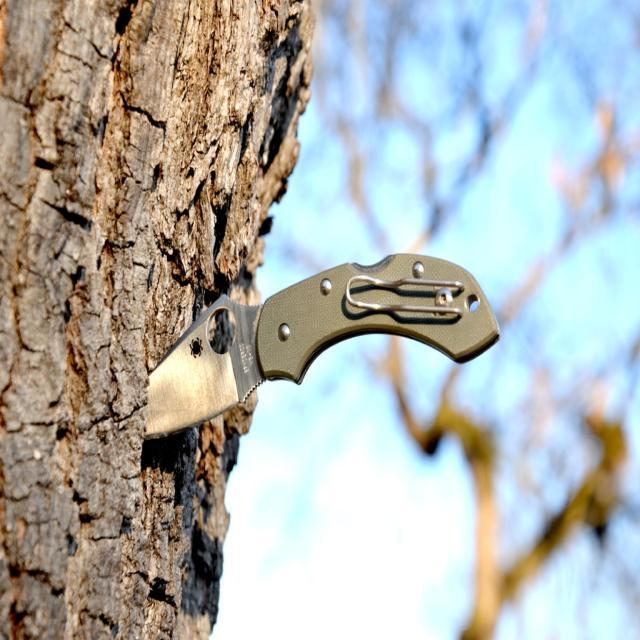Knife: (145, 254, 499, 437)
